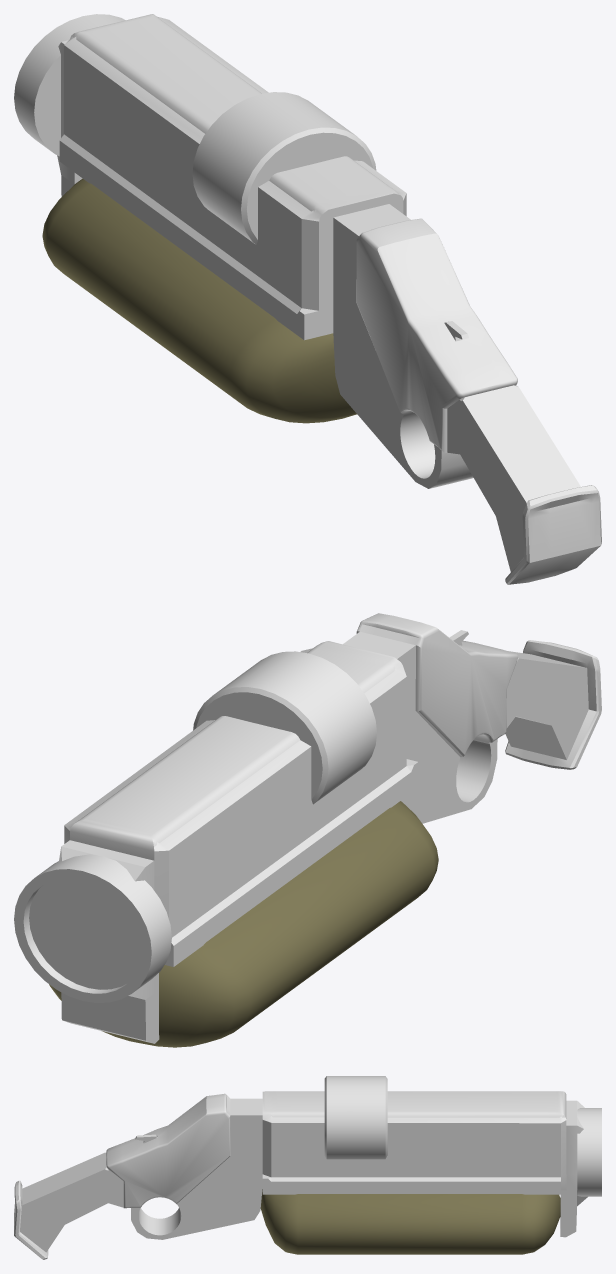
Rendered from GlooGun1.fbx.
3 renders of one model, top to bottom at view 1: azimuth 30°, elevation 25°; view 2: azimuth 150°, elevation 25°; view 3: azimuth 270°, elevation 25°, orthographic. The views are drawn at different scales.
Parts seen in each view (by area): view 1: Cylinder.002; view 2: Cylinder.002; view 3: Cylinder.002.
Boxes of the visible parts, x1=… form: Cylinder.002: x1=14, y1=14, x2=601, y2=584; Cylinder.002: x1=14, y1=613, x2=601, y2=1047; Cylinder.002: x1=14, y1=1076, x2=601, y2=1259.
Bounding box in the file's own units: 486 × 636 × 1984.
